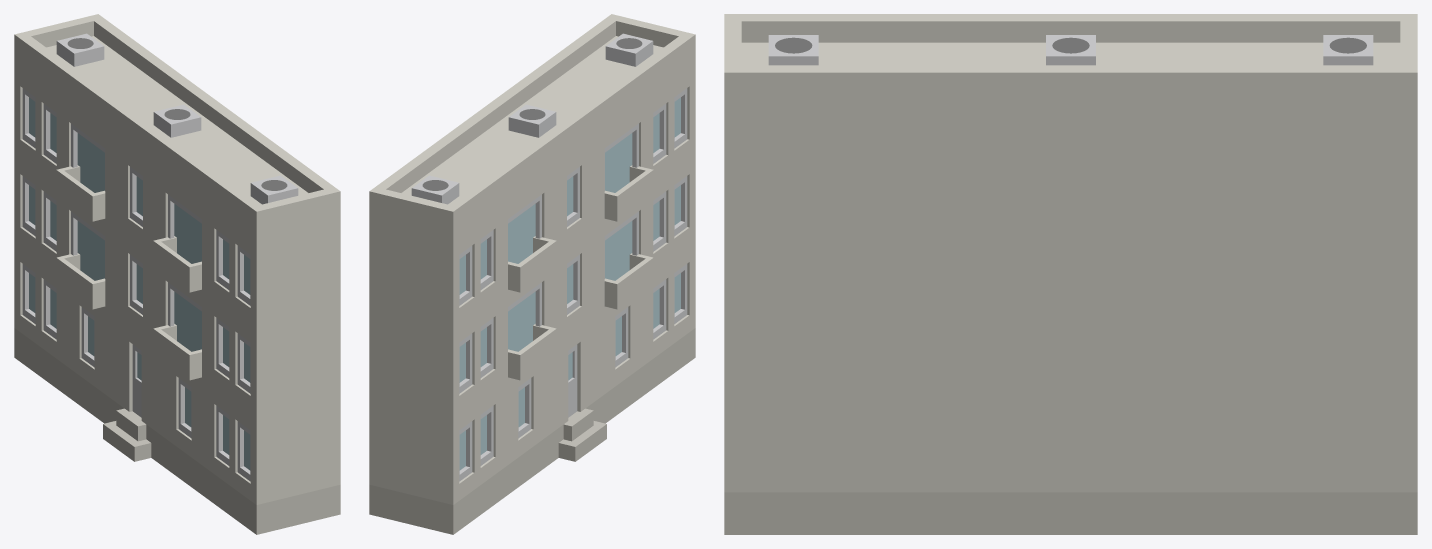
Rendered from Building 5.fbx.
The picture shows the model from 3 angles, left to right: view 1: azimuth 30°, elevation 25°; view 2: azimuth 150°, elevation 25°; view 3: azimuth 270°, elevation 25°; orthographic projection. The views are drawn at different scales.
Parts seen in each view (by area): view 1: Building 5; view 2: Building 5; view 3: Building 5.
Part boxes in pixels (bbox=[...]): Building 5: bbox=[14, 14, 340, 534]; Building 5: bbox=[369, 14, 695, 534]; Building 5: bbox=[724, 14, 1417, 534].
Size of the model in its own units: 120 by 368 by 500.
